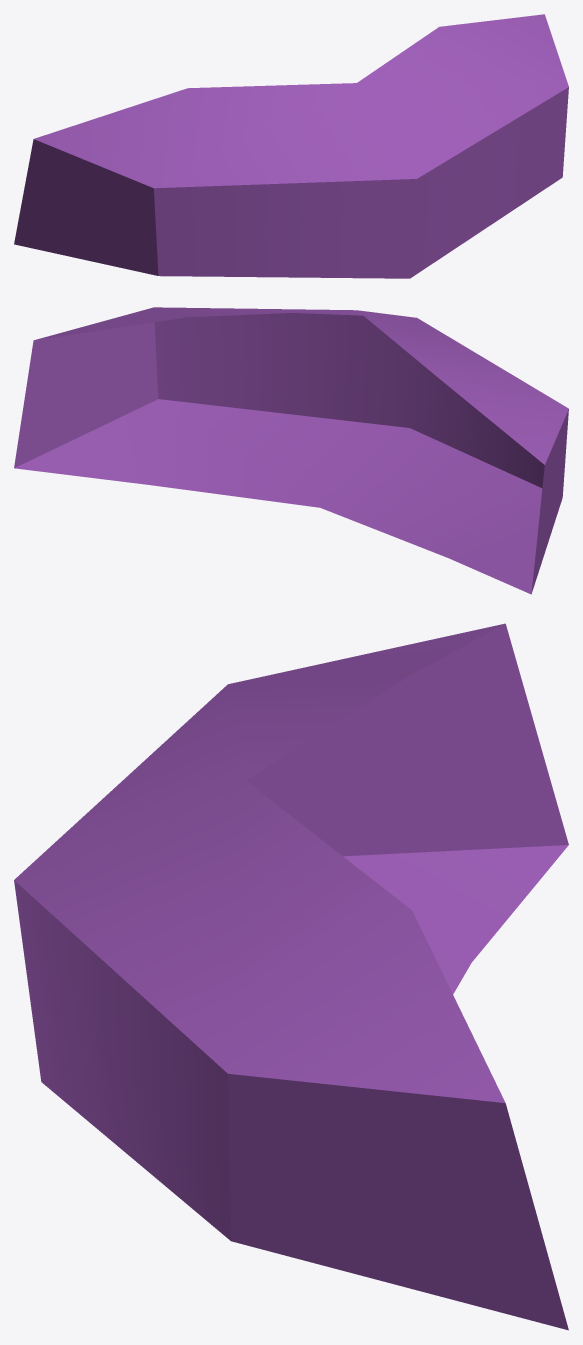
File: Male_Mustache_01_v2.fbx
The picture shows the model from 3 angles, top to bottom: view 1: azimuth 30°, elevation 25°; view 2: azimuth 150°, elevation 25°; view 3: azimuth 270°, elevation 25°; orthographic projection. The views are drawn at different scales.
Parts seen in each view (by area): view 1: Male_Mustache_01_v2; view 2: Male_Mustache_01_v2; view 3: Male_Mustache_01_v2.
Part boxes in pixels (box(x1,y1,x2,y2)): Male_Mustache_01_v2: box(14, 14, 568, 278); Male_Mustache_01_v2: box(14, 307, 568, 594); Male_Mustache_01_v2: box(14, 623, 568, 1330).
Size of the model in its own units: 23.74 by 7.49 by 11.47.
